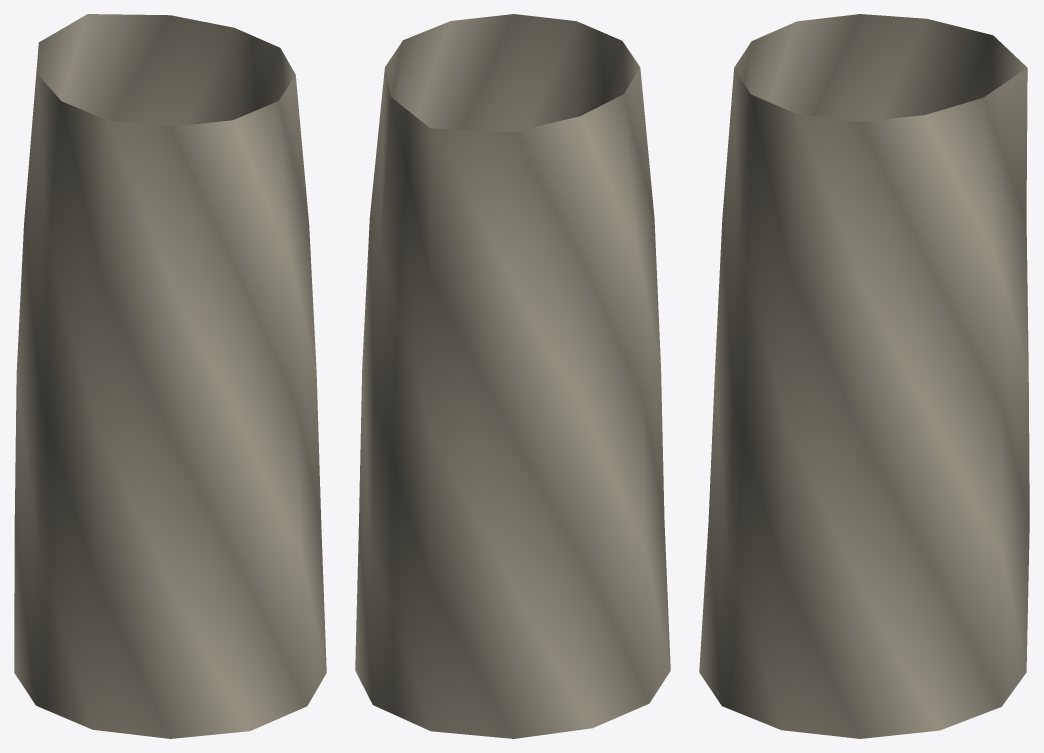
The model's file is necro_armor_greave.R.glb.
3 views of the same model, side by side, from view 1: azimuth 30°, elevation 25°; view 2: azimuth 150°, elevation 25°; view 3: azimuth 270°, elevation 25° (orthographic).
Parts seen in each view (by area): view 1: necro_armor_greave.R; view 2: necro_armor_greave.R; view 3: necro_armor_greave.R.
Part boxes in pixels (bbox=[...]): necro_armor_greave.R: bbox=[14, 14, 326, 738]; necro_armor_greave.R: bbox=[355, 14, 670, 738]; necro_armor_greave.R: bbox=[699, 14, 1029, 738].
Size of the model in its own units: 0.1776 by 0.3767 by 0.1866.
